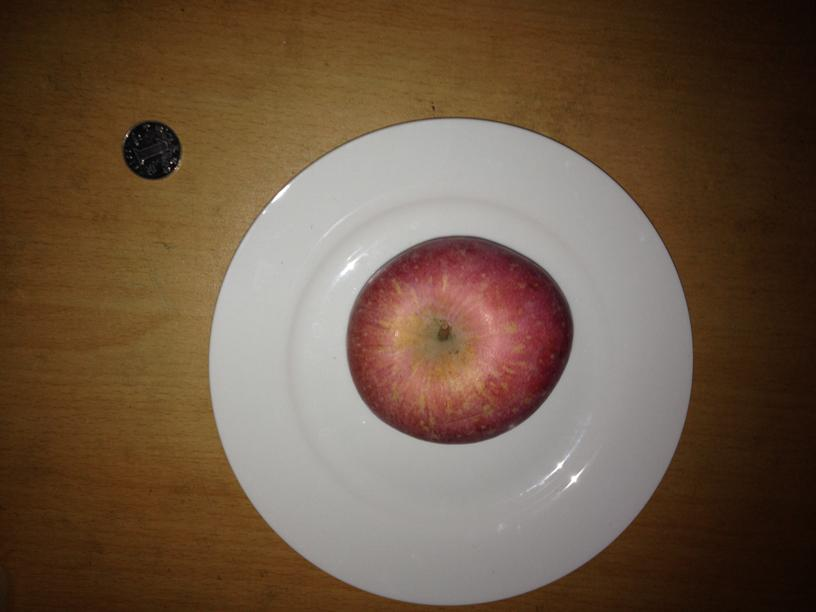apple: (348, 240, 573, 443)
coin: (121, 121, 181, 179)
